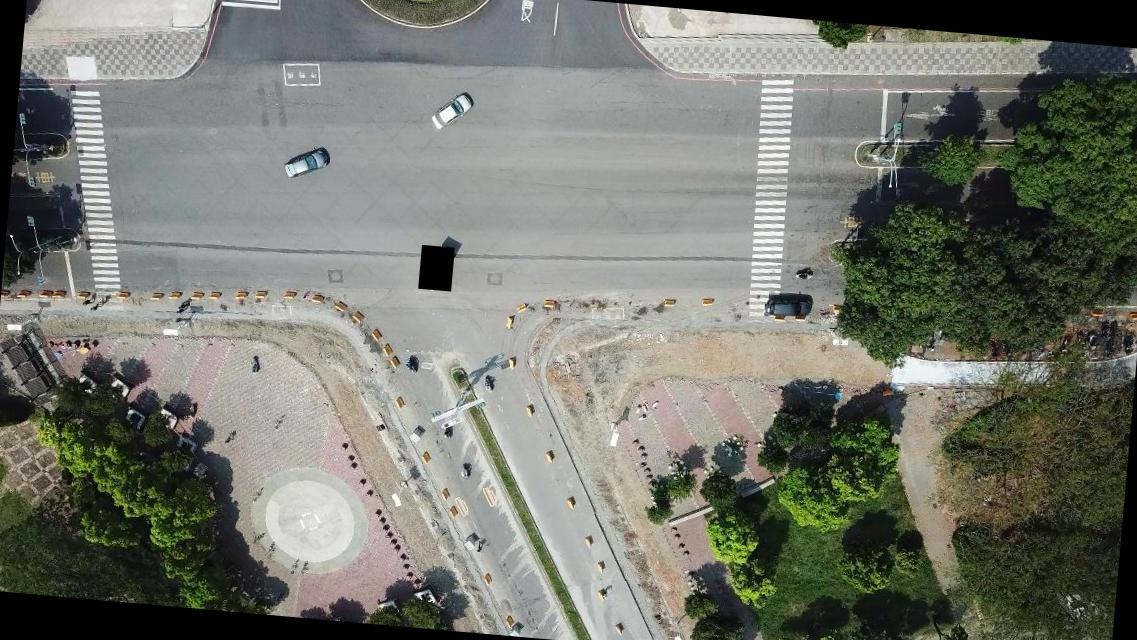vehicle: (429, 91, 473, 132), (282, 146, 329, 182), (763, 295, 812, 320)
